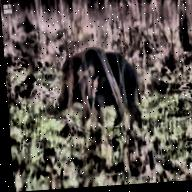boar: (46, 21, 156, 140)
